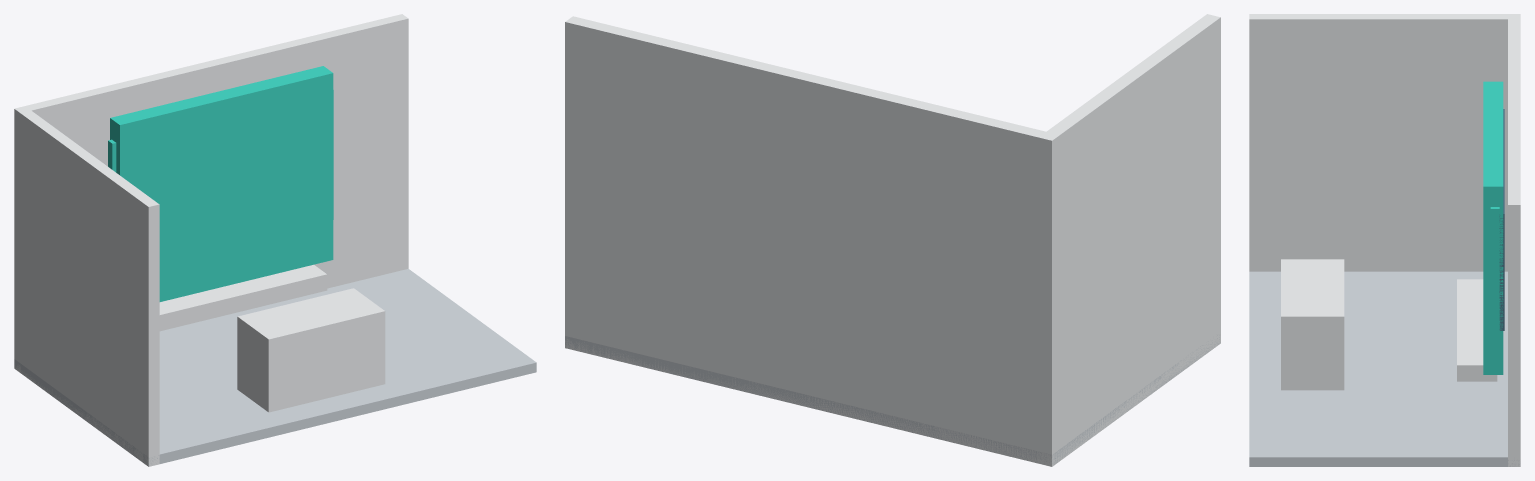
3 renders of one model, left to right at view 1: azimuth 30°, elevation 25°; view 2: azimuth 150°, elevation 25°; view 3: azimuth 270°, elevation 25°, orthographic. The views are drawn at different scales.
Parts seen in each view (by area): view 1: Exhibition Booth Concept; view 2: Exhibition Booth Concept; view 3: Exhibition Booth Concept.
Part boxes in pixels (left/top/right/bottom): Exhibition Booth Concept: left=14, top=14, right=536, bottom=466; Exhibition Booth Concept: left=565, top=14, right=1220, bottom=466; Exhibition Booth Concept: left=1249, top=14, right=1520, bottom=466.
Bounding box in the file's own units: 5 × 3.2 × 3.
